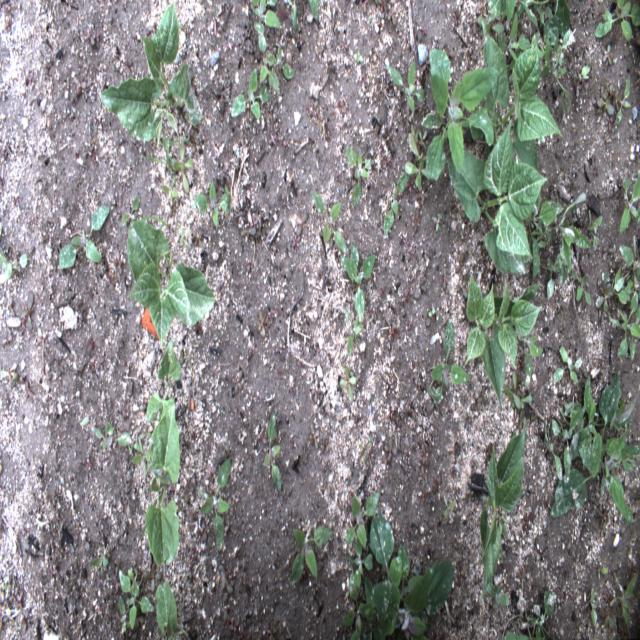crop: (448, 120, 549, 276), (100, 2, 202, 147), (127, 222, 216, 353), (482, 34, 562, 178), (466, 274, 542, 413), (479, 424, 526, 600), (147, 402, 180, 567), (147, 339, 180, 432), (155, 578, 177, 639)
weed: (552, 373, 639, 523), (422, 50, 500, 178), (392, 539, 454, 639), (525, 193, 586, 280), (370, 512, 402, 638), (426, 320, 471, 404), (546, 225, 592, 301), (535, 28, 575, 112), (58, 204, 110, 268), (340, 243, 375, 324), (200, 458, 230, 552), (289, 527, 333, 590), (504, 588, 555, 640), (342, 570, 380, 639), (312, 192, 349, 255), (608, 288, 639, 361), (231, 67, 271, 123), (388, 58, 426, 115), (119, 569, 154, 629), (346, 490, 381, 549), (383, 168, 413, 236), (491, 14, 530, 65), (193, 179, 232, 227), (594, 0, 639, 41), (533, 0, 570, 48), (477, 0, 516, 42), (347, 146, 372, 210), (560, 402, 588, 458), (263, 410, 282, 490), (168, 138, 195, 194), (258, 28, 280, 96), (551, 420, 573, 485), (404, 155, 437, 193), (147, 134, 176, 175), (619, 172, 639, 231), (132, 436, 158, 481), (93, 422, 133, 451), (551, 348, 584, 383), (620, 576, 638, 638), (544, 421, 562, 482), (619, 246, 639, 300), (503, 375, 533, 410), (251, 0, 280, 36), (346, 535, 372, 574), (516, 1, 550, 27), (522, 335, 543, 377), (614, 76, 630, 128), (346, 310, 364, 355), (0, 253, 28, 280), (614, 265, 633, 304), (484, 579, 510, 605), (595, 274, 613, 310), (339, 366, 356, 404), (572, 270, 590, 305), (587, 210, 602, 251), (122, 193, 140, 227), (139, 213, 174, 230), (159, 174, 180, 202), (276, 46, 294, 78), (598, 86, 616, 115), (144, 563, 162, 591), (586, 587, 598, 628), (20, 294, 34, 328), (408, 133, 424, 160), (90, 546, 109, 568), (414, 121, 428, 149), (0, 362, 18, 382), (443, 497, 456, 517), (601, 44, 612, 66), (119, 596, 125, 633), (309, 0, 319, 22), (410, 125, 420, 146), (579, 65, 593, 76), (292, 3, 297, 33)
